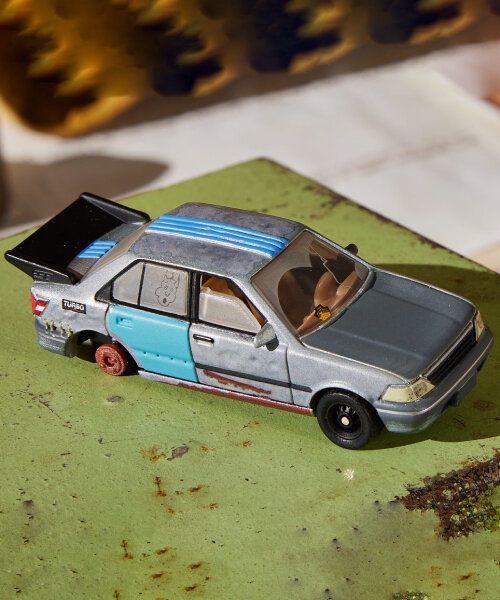Car: (0, 175, 500, 451)
